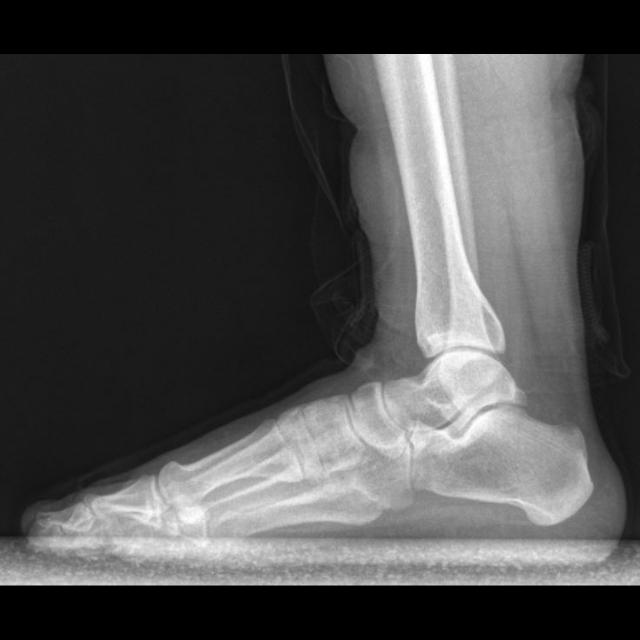a: (406, 409, 595, 531)
b: (345, 381, 407, 454)
c: (158, 420, 301, 509)
